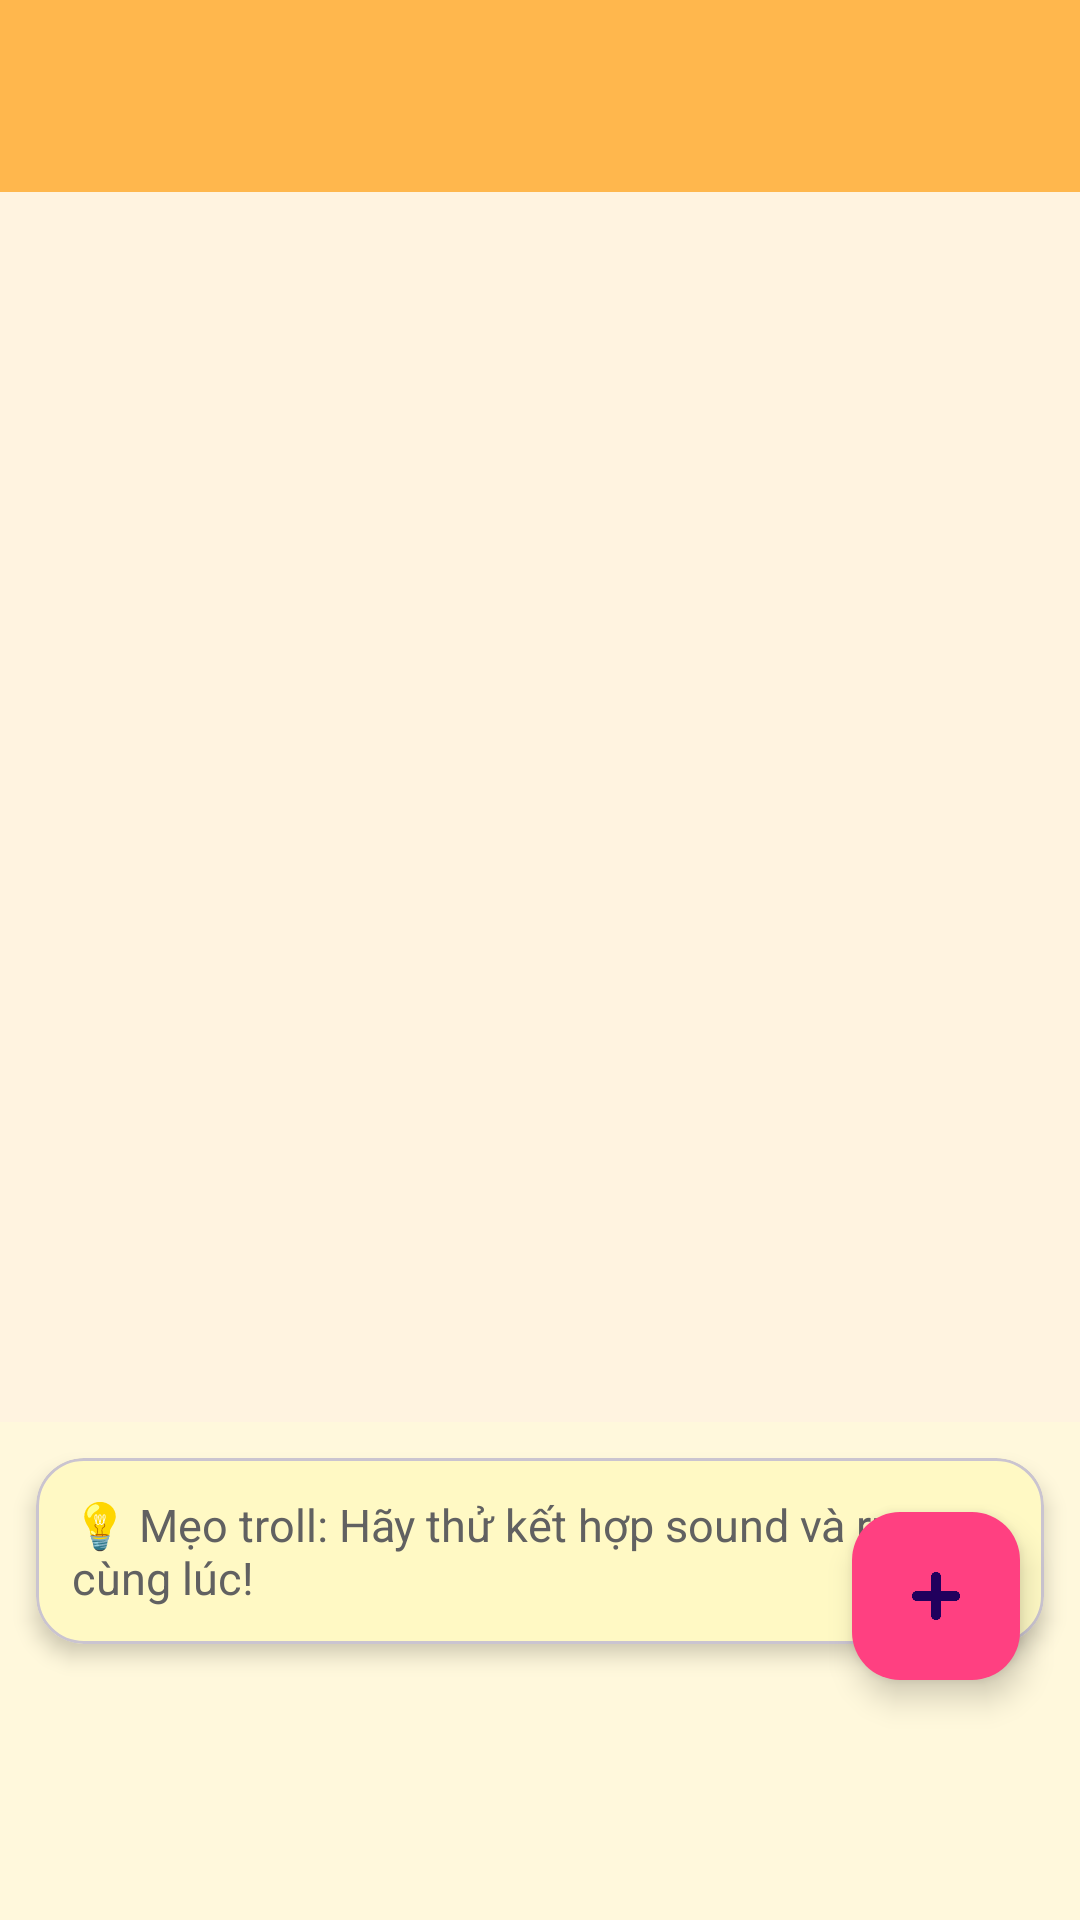

Named icons in this screenshot (1080w x 1920h) and their bounding boxes, bbox=[x1, y1, x2, y2]:
Menu hành động: bbox=[852, 1512, 1020, 1680]
